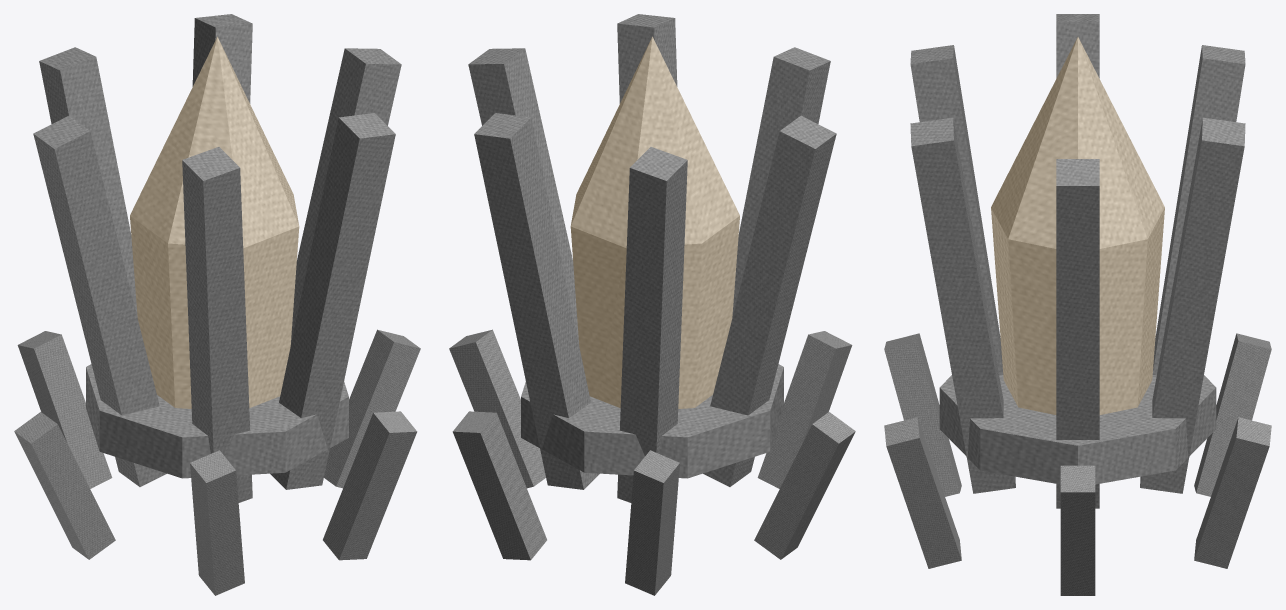
File: boss-elder-rootheart.glb
3 views of the same model, side by side, from view 1: azimuth 30°, elevation 25°; view 2: azimuth 150°, elevation 25°; view 3: azimuth 270°, elevation 25° (orthographic).
Visible parts, largest first — view 1: earth-core, root-1, root-3, root-2, root-collar, root-foot-1, root-4, root-foot-3, root-0, root-foot-2, root-foot-4, root-foot-0 (+1 smaller); view 2: earth-core, root-5, root-3, root-4, root-collar, root-foot-5, root-2, root-foot-3, root-0, root-foot-4, root-foot-2, root-foot-0 (+1 smaller); view 3: earth-core, root-collar, root-1, root-5, root-0, root-2, root-4, root-foot-1, root-foot-5, root-foot-2, root-foot-4, root-foot-0 (+1 smaller).
Part boxes in pixels (x1=…): earth-core: x1=130, y1=36, x2=299, y2=408; root-1: x1=270, y1=113, x2=395, y2=489; root-3: x1=33, y1=115, x2=166, y2=486; root-2: x1=182, y1=147, x2=252, y2=502; root-collar: x1=86, y1=364, x2=348, y2=478; root-foot-1: x1=323, y1=411, x2=417, y2=560; root-4: x1=39, y1=47, x2=137, y2=317; root-foot-3: x1=14, y1=412, x2=115, y2=559; root-0: x1=290, y1=48, x2=401, y2=345; root-foot-2: x1=190, y1=450, x2=244, y2=595; root-foot-4: x1=17, y1=331, x2=112, y2=488; root-foot-0: x1=324, y1=329, x2=420, y2=488; earth-core: x1=570, y1=36, x2=739, y2=408; root-5: x1=474, y1=113, x2=599, y2=489; root-3: x1=703, y1=115, x2=836, y2=486; root-4: x1=617, y1=147, x2=687, y2=502; root-collar: x1=521, y1=364, x2=783, y2=478; root-foot-5: x1=452, y1=411, x2=546, y2=560; root-2: x1=732, y1=47, x2=830, y2=317; root-foot-3: x1=754, y1=412, x2=855, y2=559; root-0: x1=468, y1=48, x2=579, y2=345; root-foot-4: x1=625, y1=450, x2=679, y2=595; root-foot-2: x1=757, y1=331, x2=852, y2=488; root-foot-0: x1=449, y1=329, x2=545, y2=488; earth-core: x1=991, y1=37, x2=1164, y2=414; root-collar: x1=939, y1=375, x2=1216, y2=484; root-1: x1=910, y1=117, x2=1015, y2=493; root-5: x1=1140, y1=117, x2=1245, y2=493; root-0: x1=1056, y1=159, x2=1099, y2=508; root-2: x1=910, y1=45, x2=1003, y2=374; root-4: x1=1152, y1=45, x2=1245, y2=374; root-foot-1: x1=884, y1=417, x2=961, y2=568; root-foot-5: x1=1194, y1=417, x2=1271, y2=568; root-foot-2: x1=884, y1=333, x2=961, y2=496; root-foot-4: x1=1194, y1=333, x2=1271, y2=496; root-foot-0: x1=1060, y1=465, x2=1095, y2=595.
Size of the model in its own units: 0.7937 by 0.948 by 0.6725.
3 materials, 3 textured.
